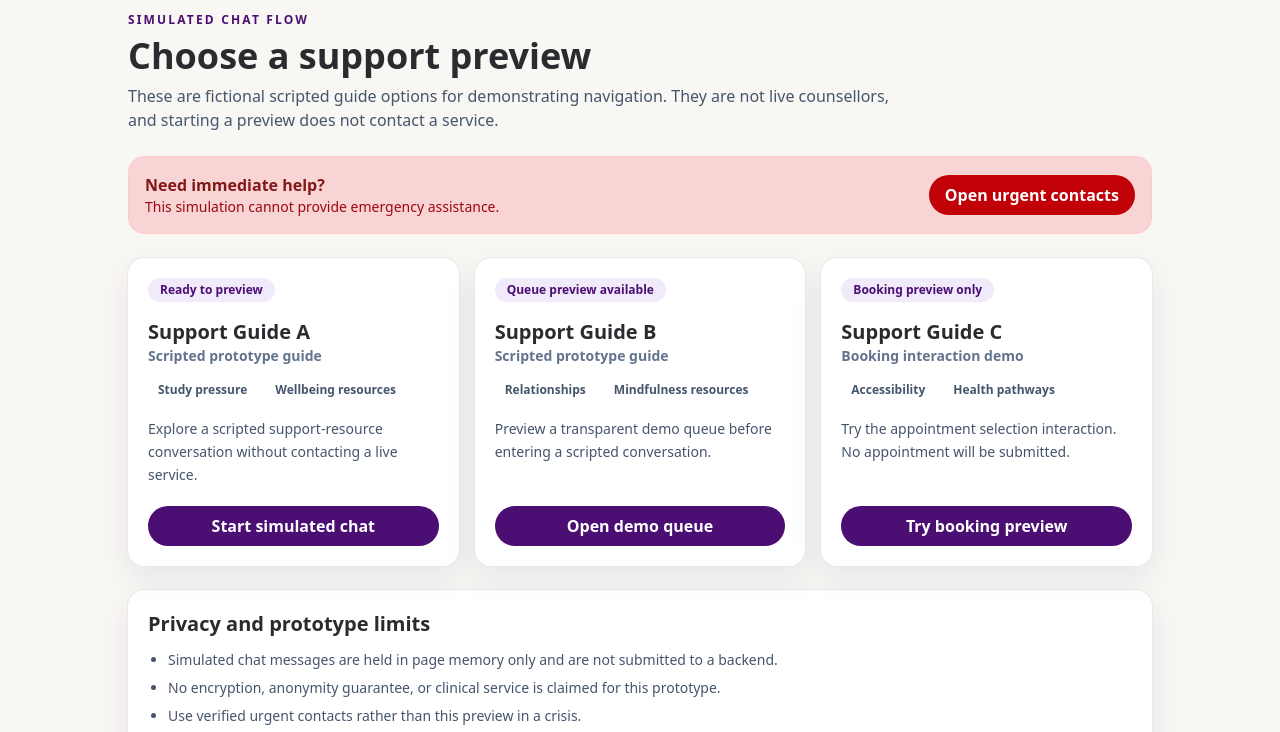
Scenario: ProfessionalSelectionPage › routes a queue choice to an honest demo queue
Click the button "Open demo queue".
click(640, 526)  # box [495, 506, 785, 546]
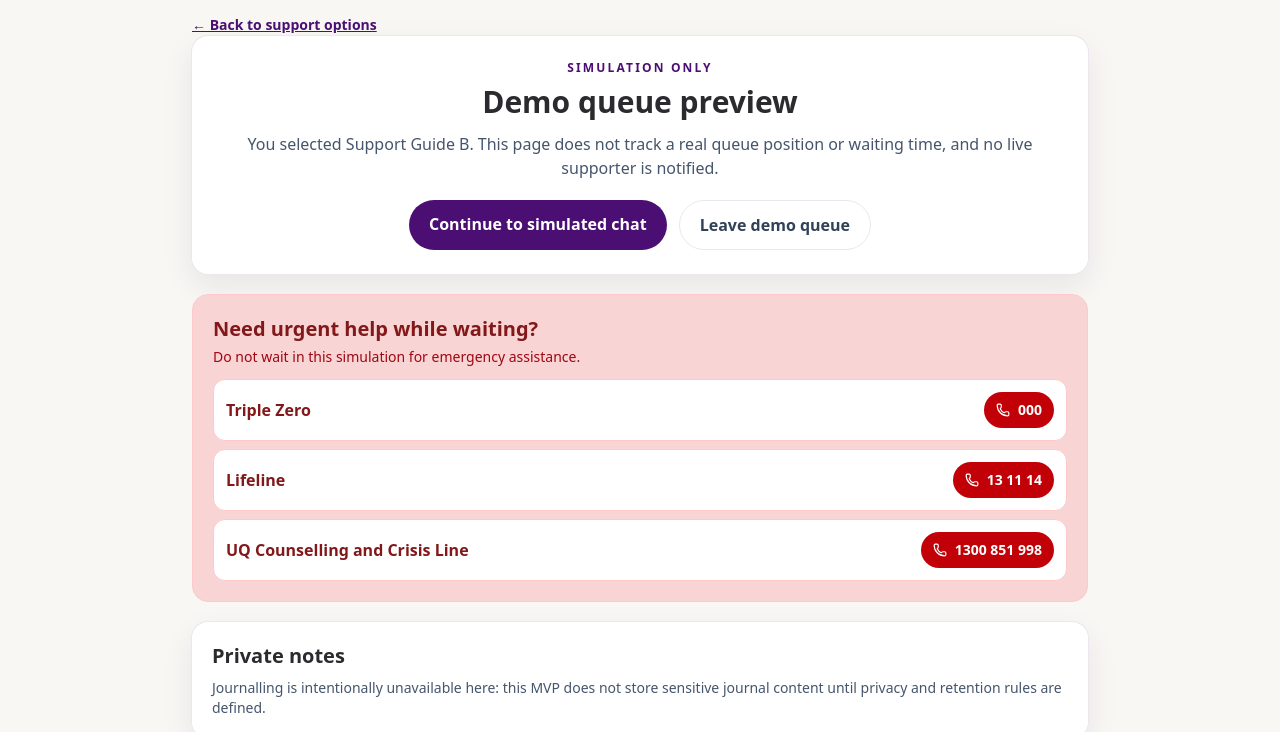
Now the heading "Demo queue preview" is shown, box [482, 81, 798, 122]
Now the text "does not track a real queue position" is shown, box [469, 133, 1032, 179]
